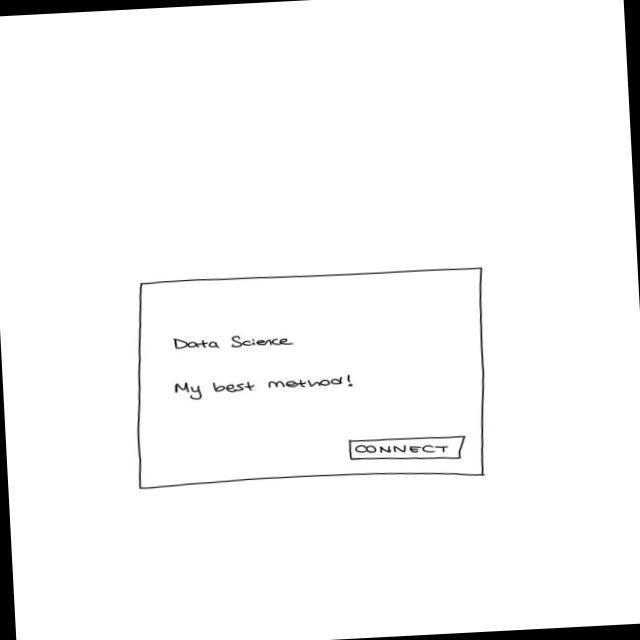button: (346, 432, 473, 467)
container: (126, 262, 498, 500)
label: (169, 371, 364, 406), (167, 326, 302, 358)
